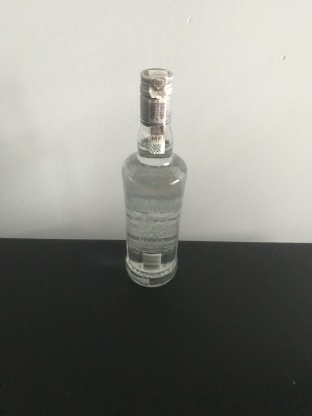nakretka: (138, 65, 175, 126)
